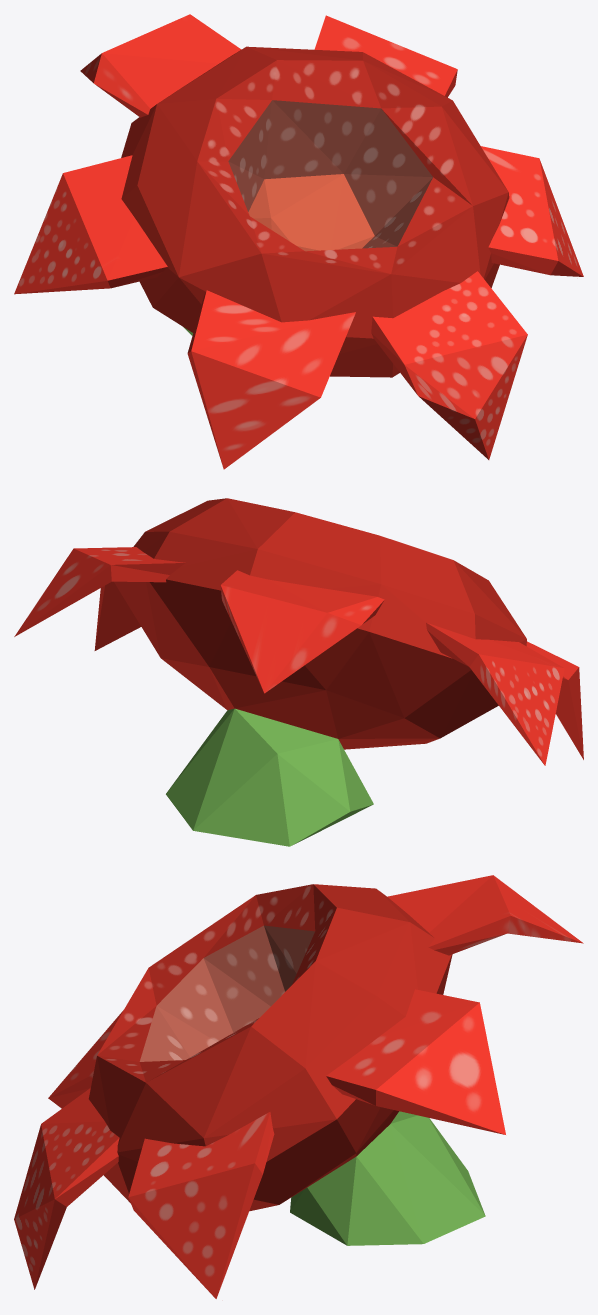
File: PlantFlower_Asset_1.fbx
3 views of the same model, one above another, from view 1: azimuth 30°, elevation 25°; view 2: azimuth 150°, elevation 25°; view 3: azimuth 270°, elevation 25° (orthographic). The views are drawn at different scales.
Parts seen in each view (by area): view 1: PlantFlower_Asset_1; view 2: PlantFlower_Asset_1; view 3: PlantFlower_Asset_1.
Boxes of the visible parts, x1,y1,x2,y2 form: PlantFlower_Asset_1: [14, 14, 583, 469]; PlantFlower_Asset_1: [14, 498, 583, 846]; PlantFlower_Asset_1: [14, 875, 583, 1298].
Size of the model in its own units: 116 by 69.7 by 105.
